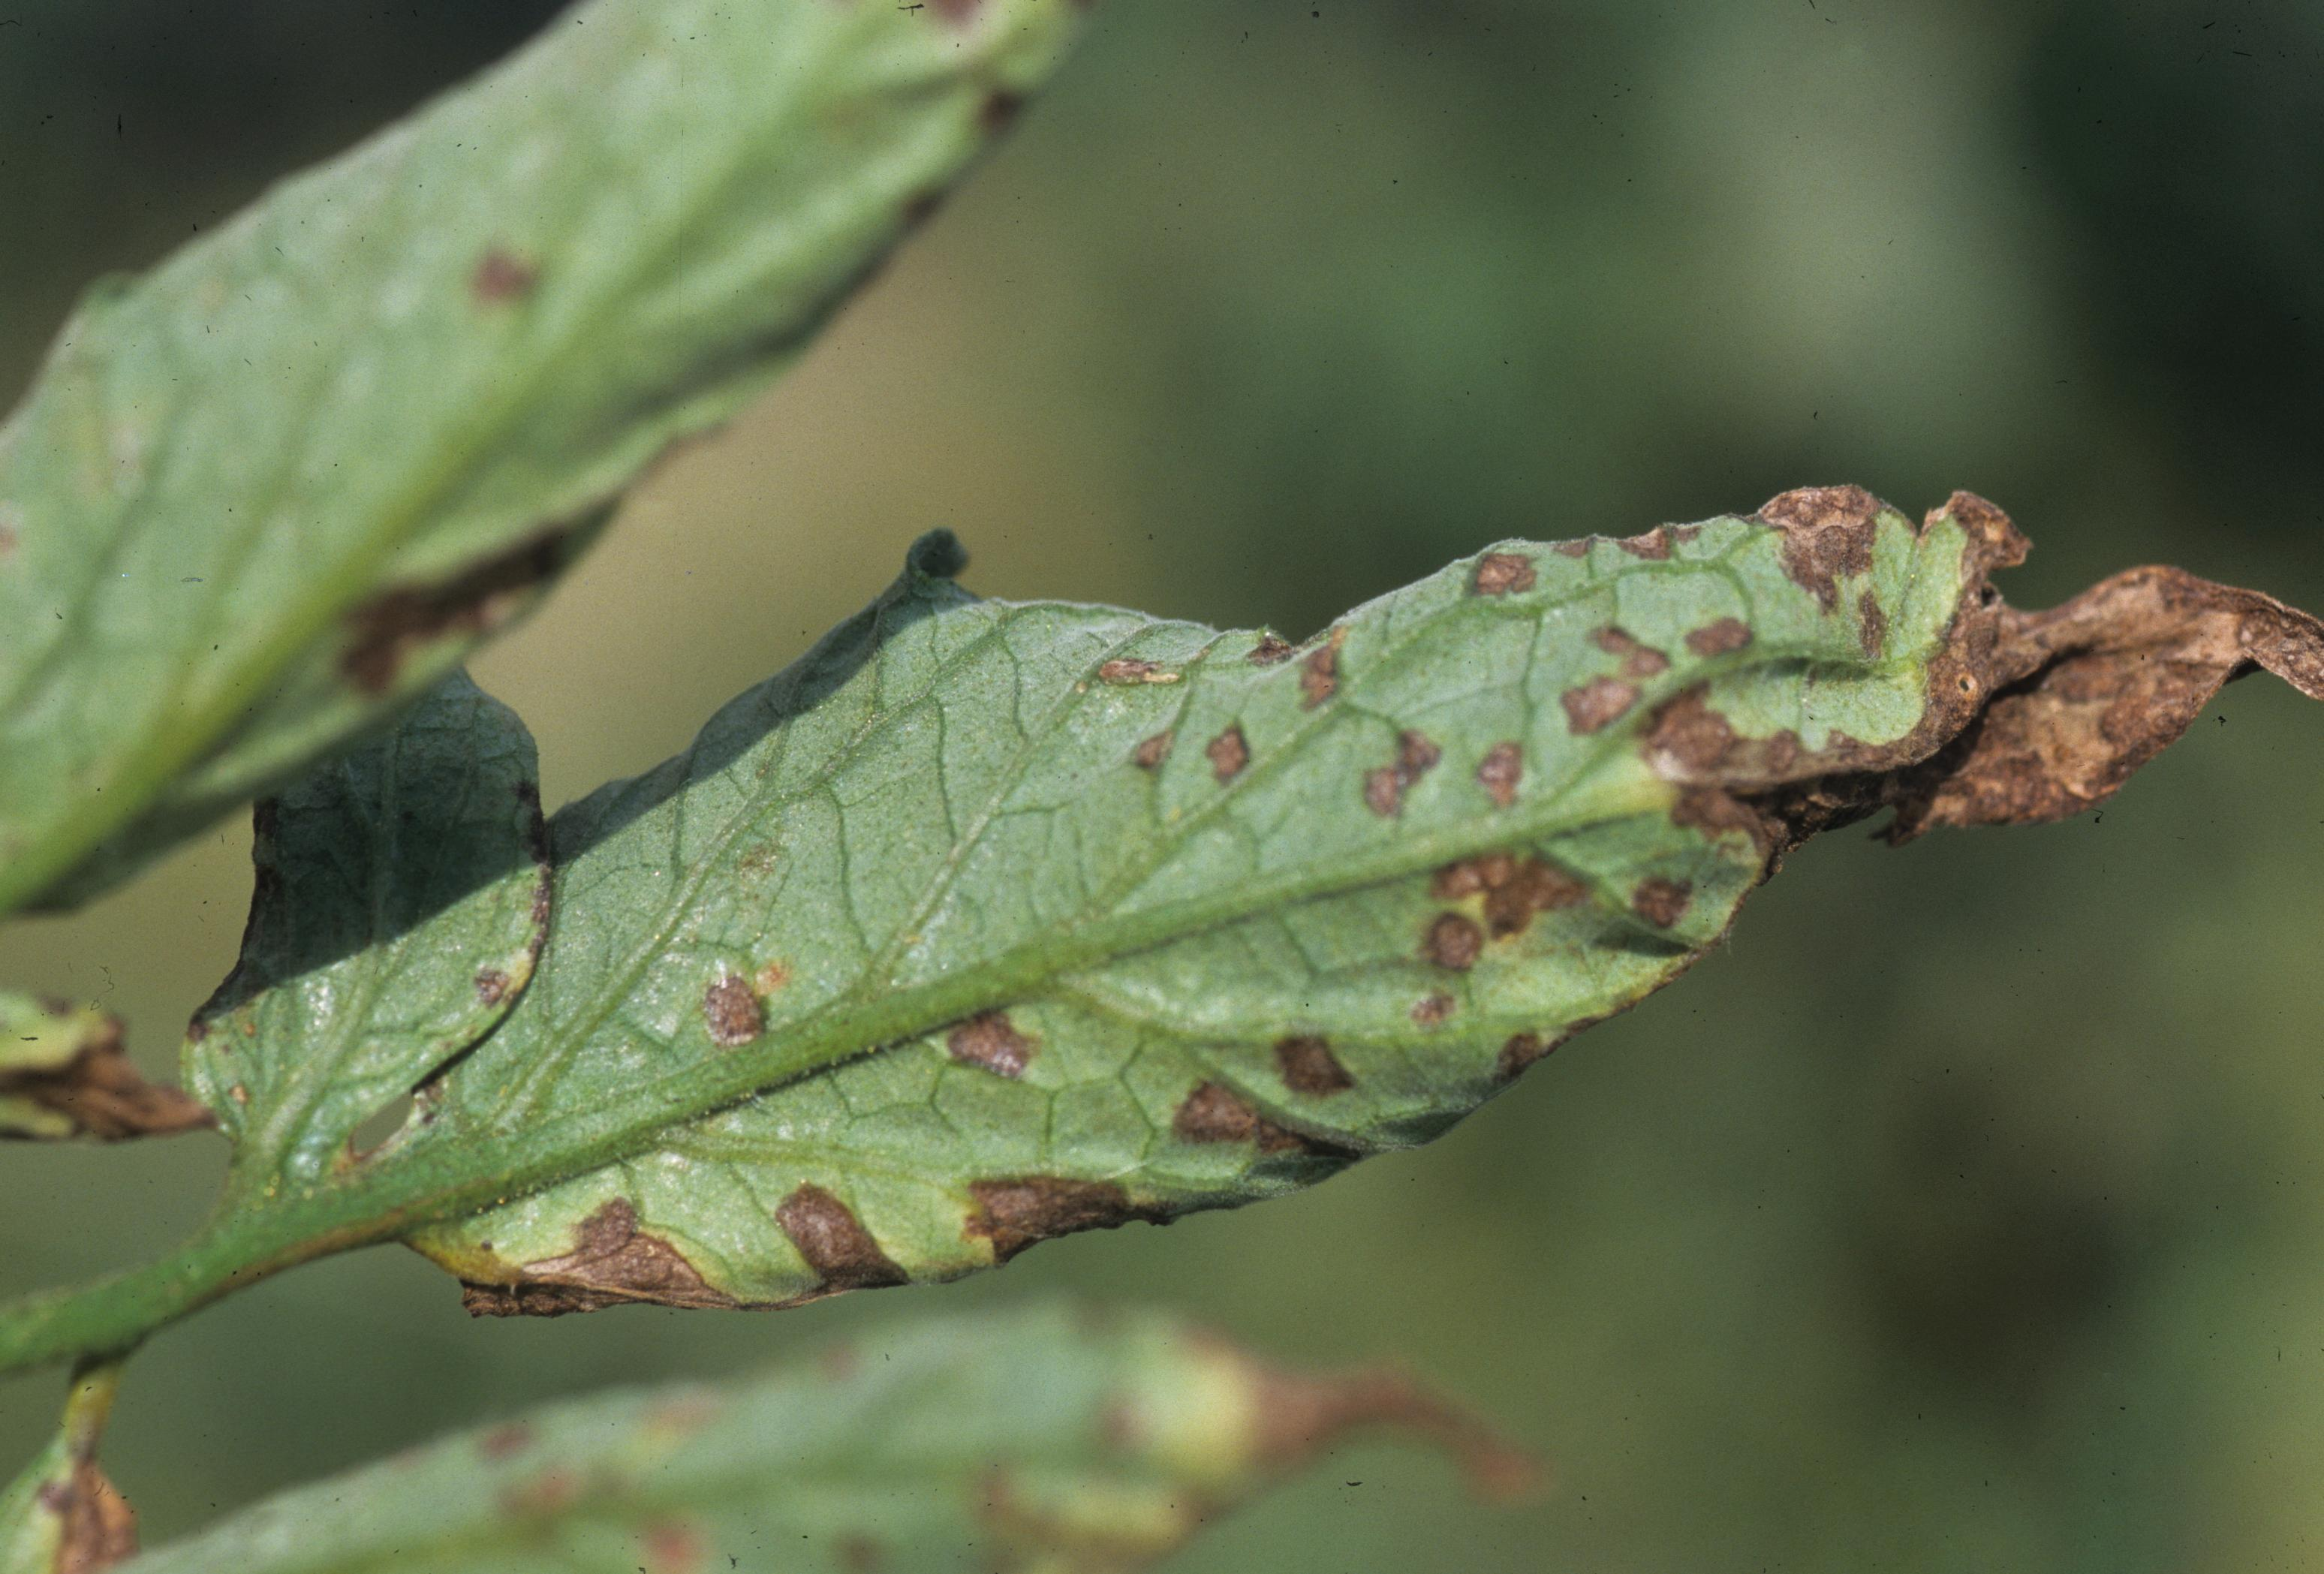Tomato leaf late blight: (191, 451, 2296, 1397)
